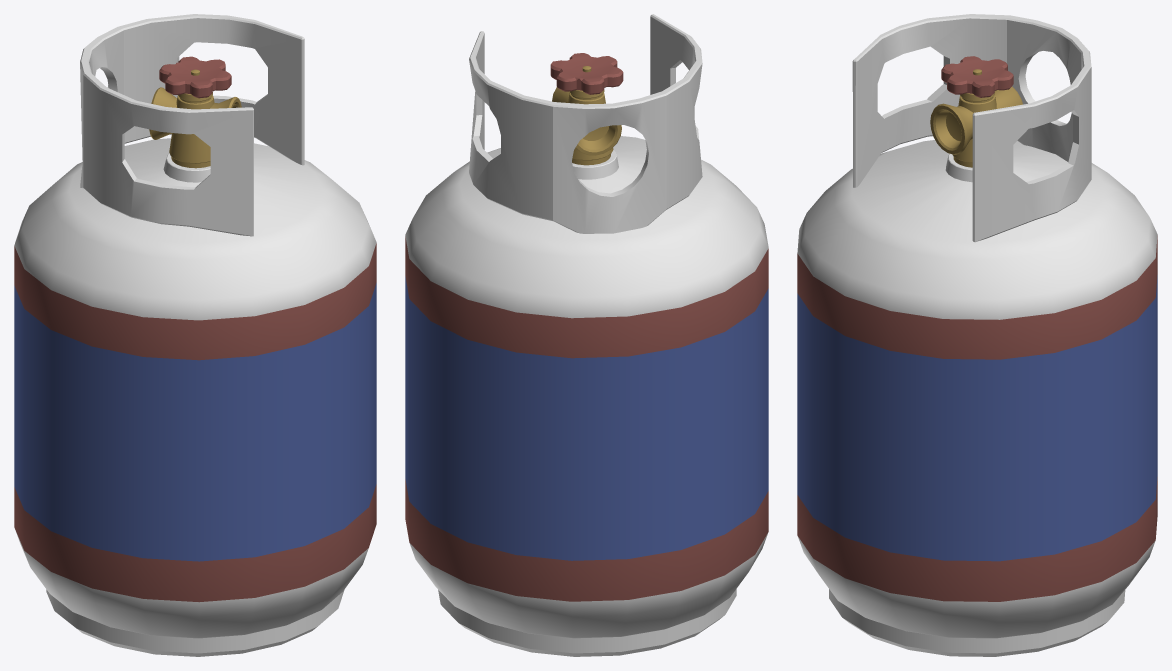
Rendered from Propane_Tank.fbx.
3 renders of one model, left to right at view 1: azimuth 30°, elevation 25°; view 2: azimuth 150°, elevation 25°; view 3: azimuth 270°, elevation 25°, orthographic.
Visible parts, largest first — view 1: pasted__pGear2; view 2: pasted__pGear2; view 3: pasted__pGear2.
Part boxes in pixels (x1,y1,x2,y2): pasted__pGear2: [14, 14, 376, 656]; pasted__pGear2: [405, 14, 768, 656]; pasted__pGear2: [797, 14, 1157, 656].
Size of the model in its own units: 1.36 by 2.24 by 1.36.
